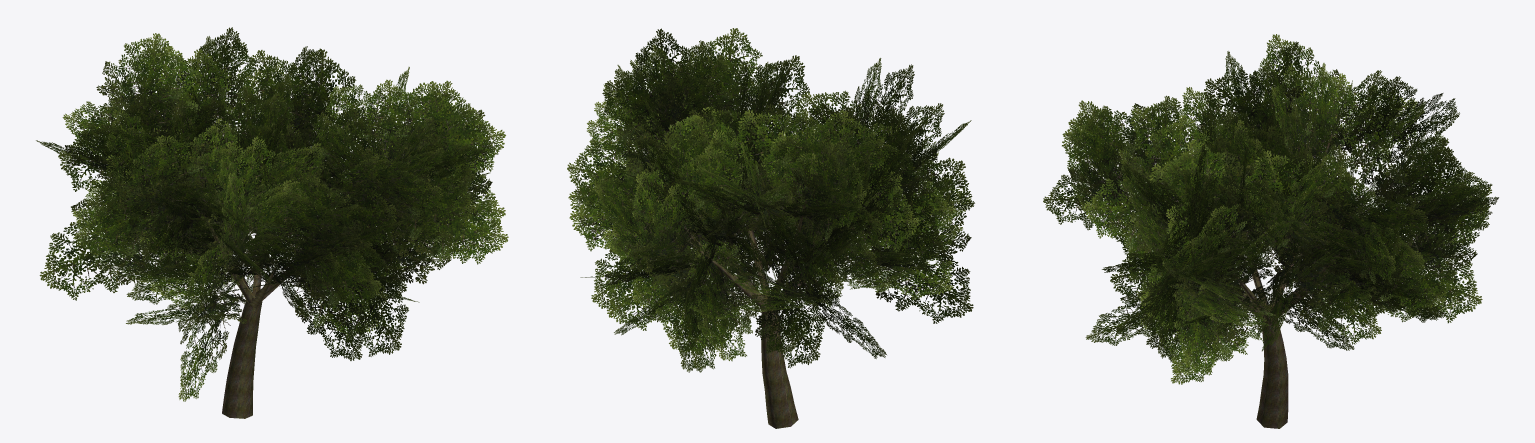
Rendered from pine08_lod1.glb.
3 renders of one model, left to right at view 1: azimuth 30°, elevation 25°; view 2: azimuth 150°, elevation 25°; view 3: azimuth 270°, elevation 25°, orthographic.
Visible parts, largest first — view 1: pine08_lod1; view 2: pine08_lod1; view 3: pine08_lod1.
Part boxes in pixels (<box>): pine08_lod1: <box>36,27,508,418</box>; pine08_lod1: <box>567,28,974,428</box>; pine08_lod1: <box>1043,34,1498,428</box>.
Size of the model in its own units: 71.53 by 57.49 by 73.6.
2 materials, 2 textured.
